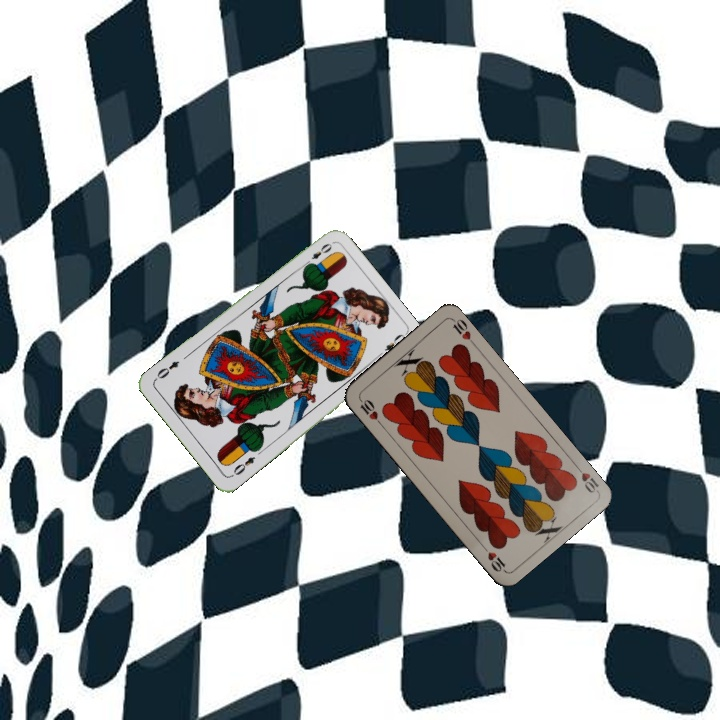EO: (300, 239, 335, 269), (227, 452, 258, 479)
H10: (571, 460, 601, 496), (355, 394, 385, 428)
